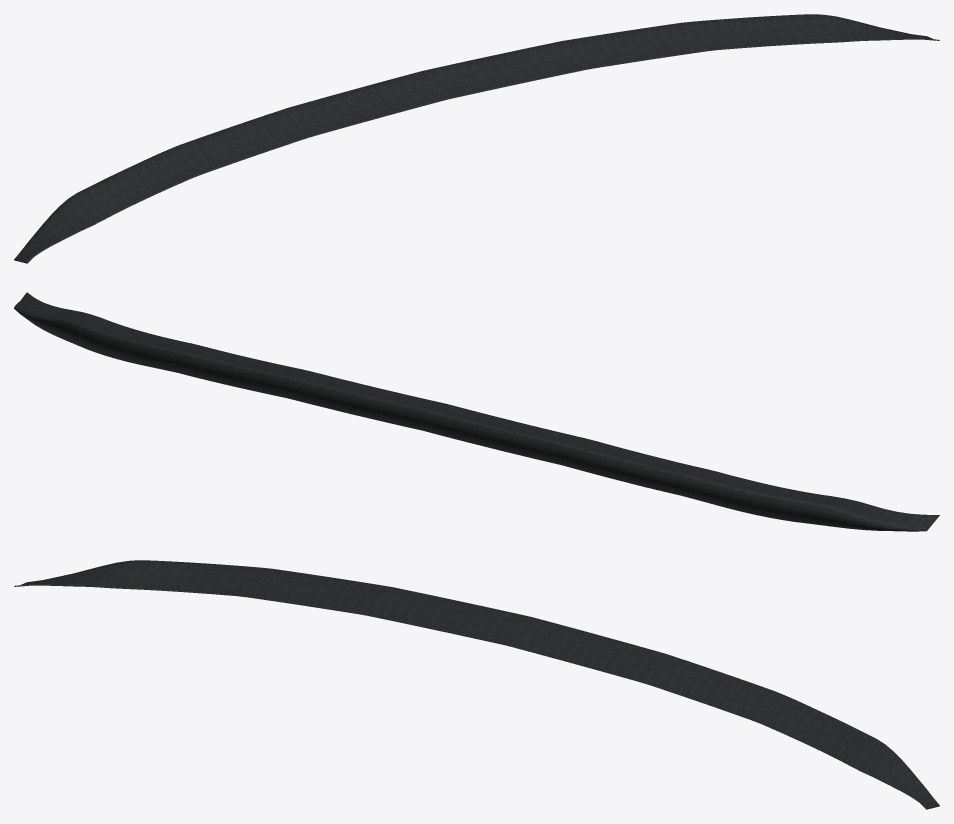
File: RA05_lip_spoiler.glb
3 views of the same model, one above another, from view 1: azimuth 30°, elevation 25°; view 2: azimuth 150°, elevation 25°; view 3: azimuth 330°, elevation 25° (orthographic).
Visible parts, largest first — view 1: MOD_ND_RA05_spoiler; view 2: MOD_ND_RA05_spoiler; view 3: MOD_ND_RA05_spoiler.
Boxes of the visible parts, bbox=[...] form: MOD_ND_RA05_spoiler: bbox=[14, 14, 939, 263]; MOD_ND_RA05_spoiler: bbox=[14, 292, 939, 531]; MOD_ND_RA05_spoiler: bbox=[14, 560, 939, 809].
Bounding box in the file's own units: 0.92 × 0.043 × 0.1062.
1 material, 1 textured.
